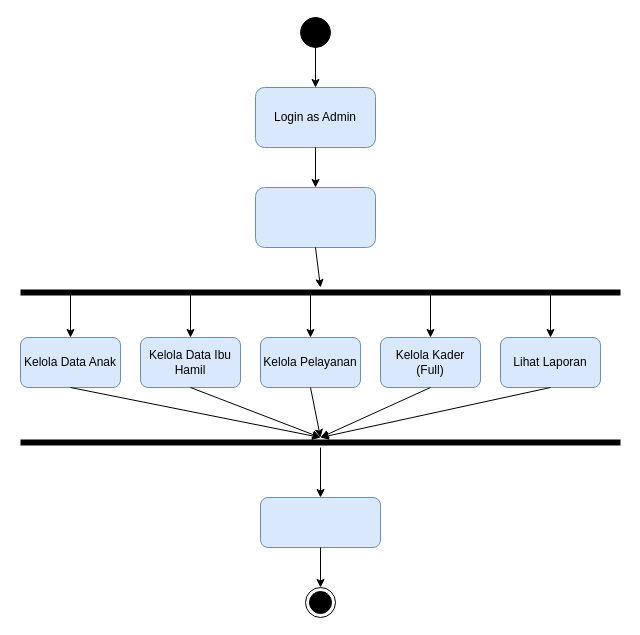
The diagram is 640 pixels wide and 635 high, and some of its shapes have lost their labels. Here are the shapes that lost their labels. From the top down, the centre of each, then its label:
point (315, 217): Akses Dashboard Admin
point (320, 522): Logout
